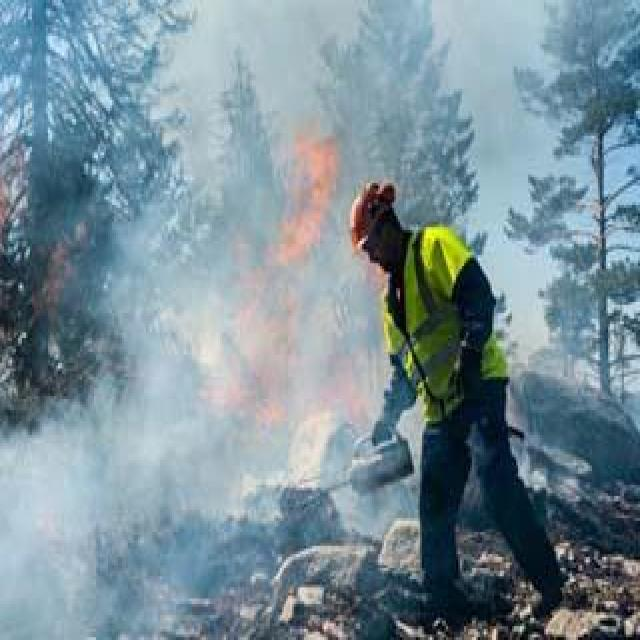fire: (206, 99, 350, 408)
